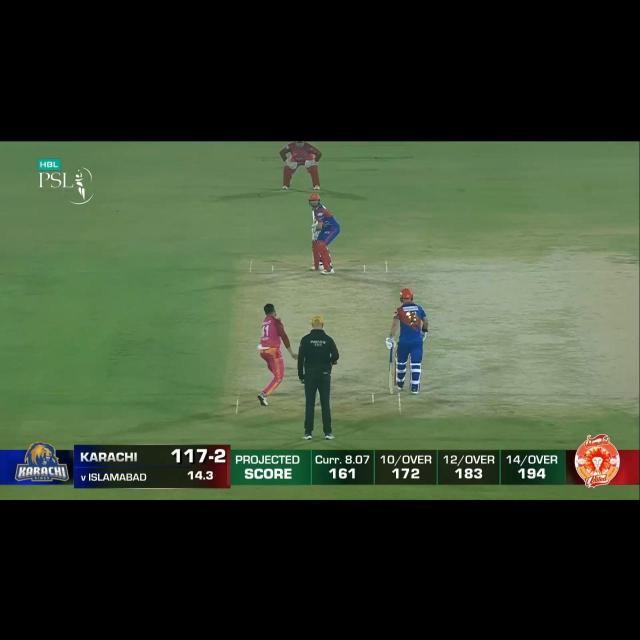bat: (386, 361, 396, 395), (311, 211, 317, 224)
toe: (386, 386, 396, 394), (310, 210, 315, 214)
